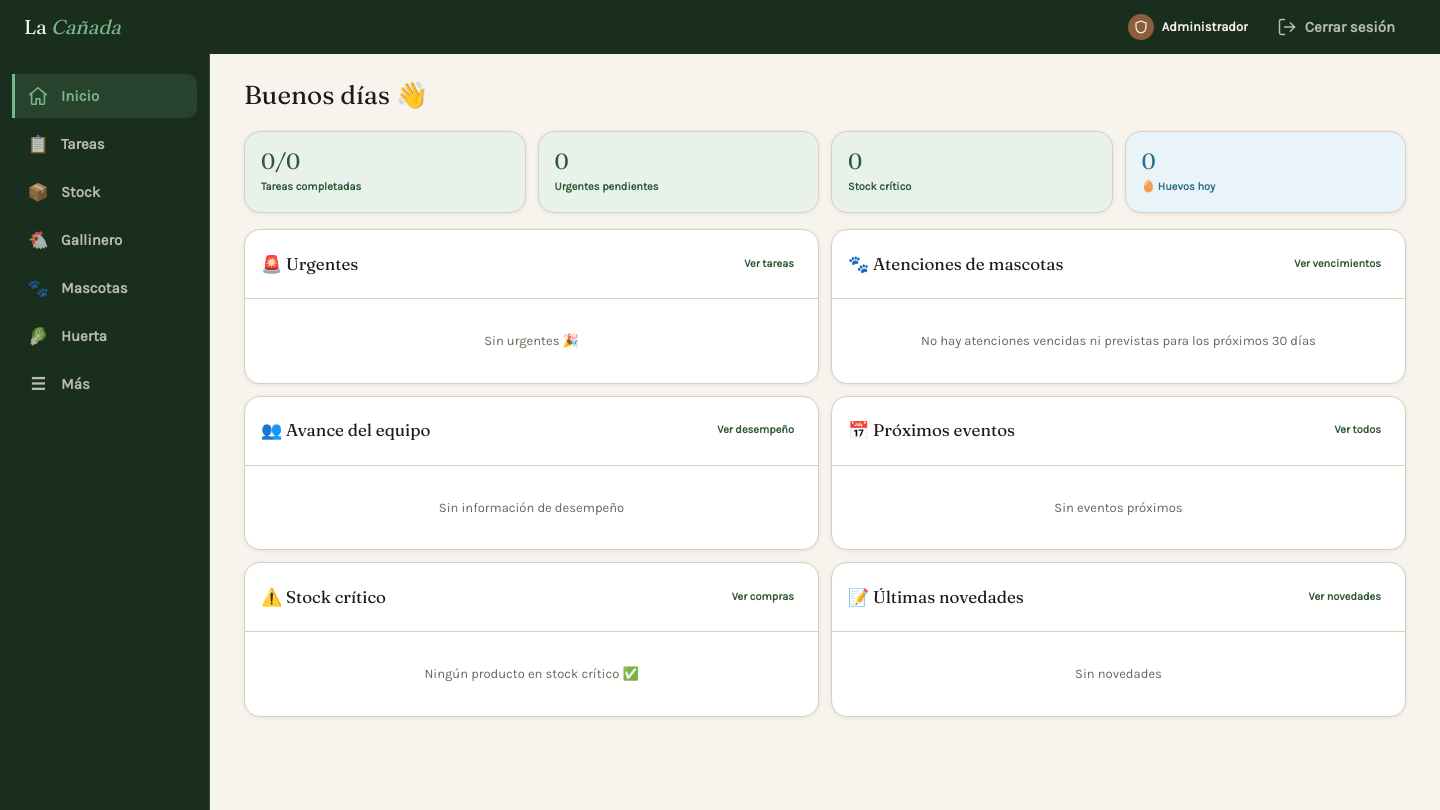
Test: navegación SPA — la sesión se restaura una sola vez por documento › Tareas ↔ Desempeño: sin re-bootstrap, sin refresh ni /me, shell montado
The image size is (1440, 810).
Expected: the heading "Buenos días 👋" is shown, [244,80,428,111]
What coordinates should you click on to do the following:
click the link "📋 Tareas"
I would click on:
 (66, 144)
Its box is [27,134,105,154].
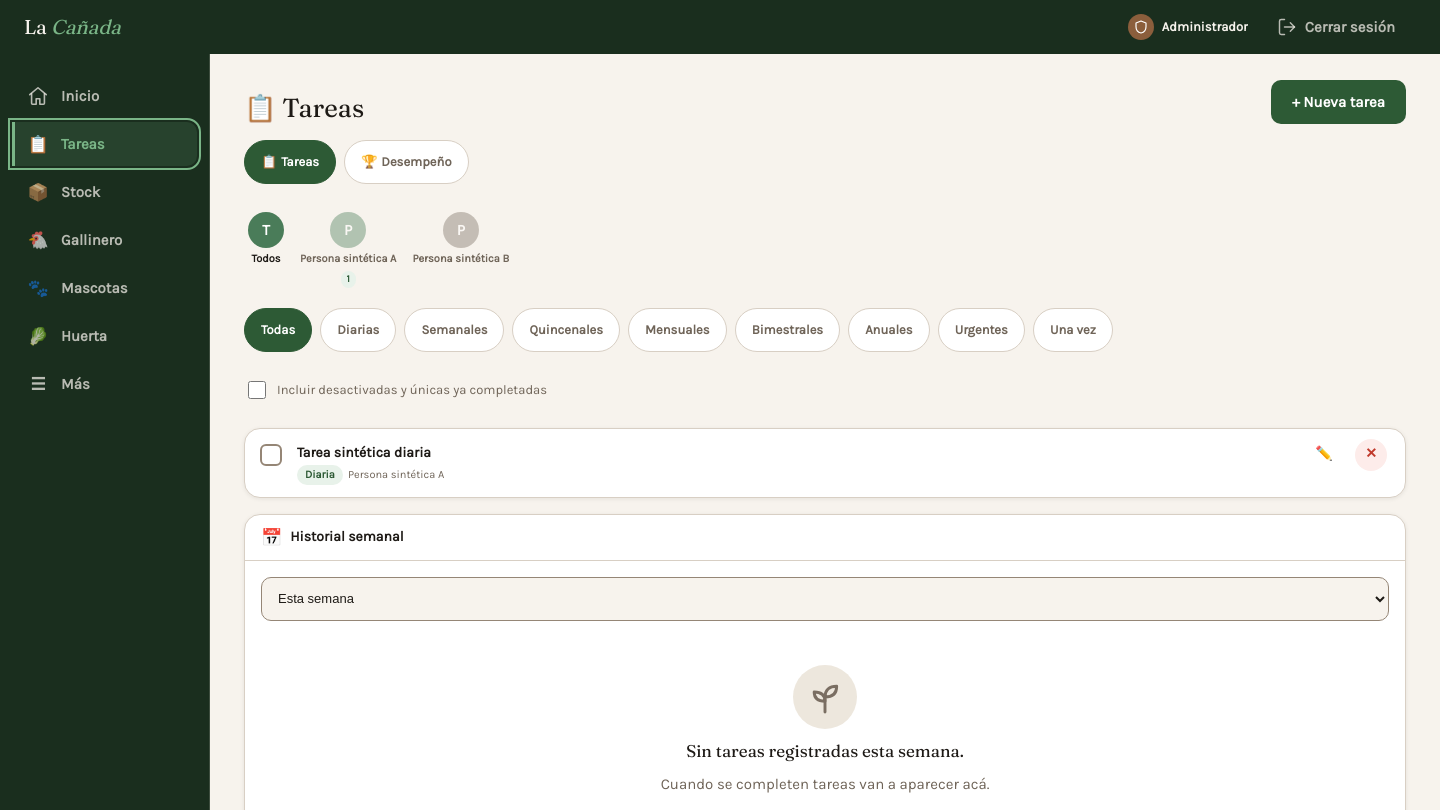
Expected: the list named "Tareas del período" is shown, [245,428,1405,497]
What coordinates should you click on to do the following:
click the link "🏆 Desempeño"
I would click on:
 (406, 162)
Its box is [344,140,468,184].
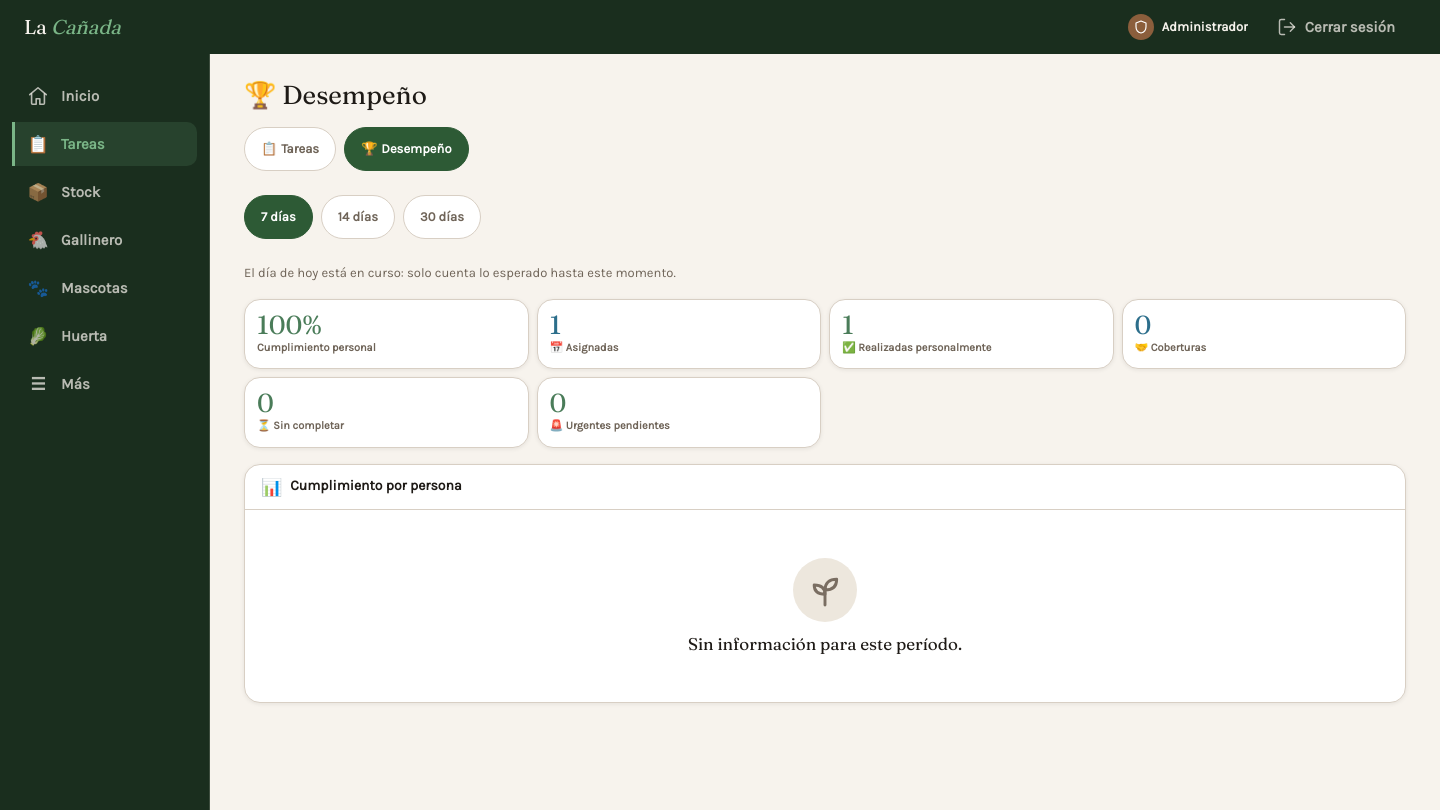
Expected: the heading "🏆 Desempeño" is shown, [244,80,427,111]
What coordinates should you click on to do the following:
click the 2nd link "📋 Tareas"
I would click on:
 (290, 149)
Its box is [244,127,336,171].
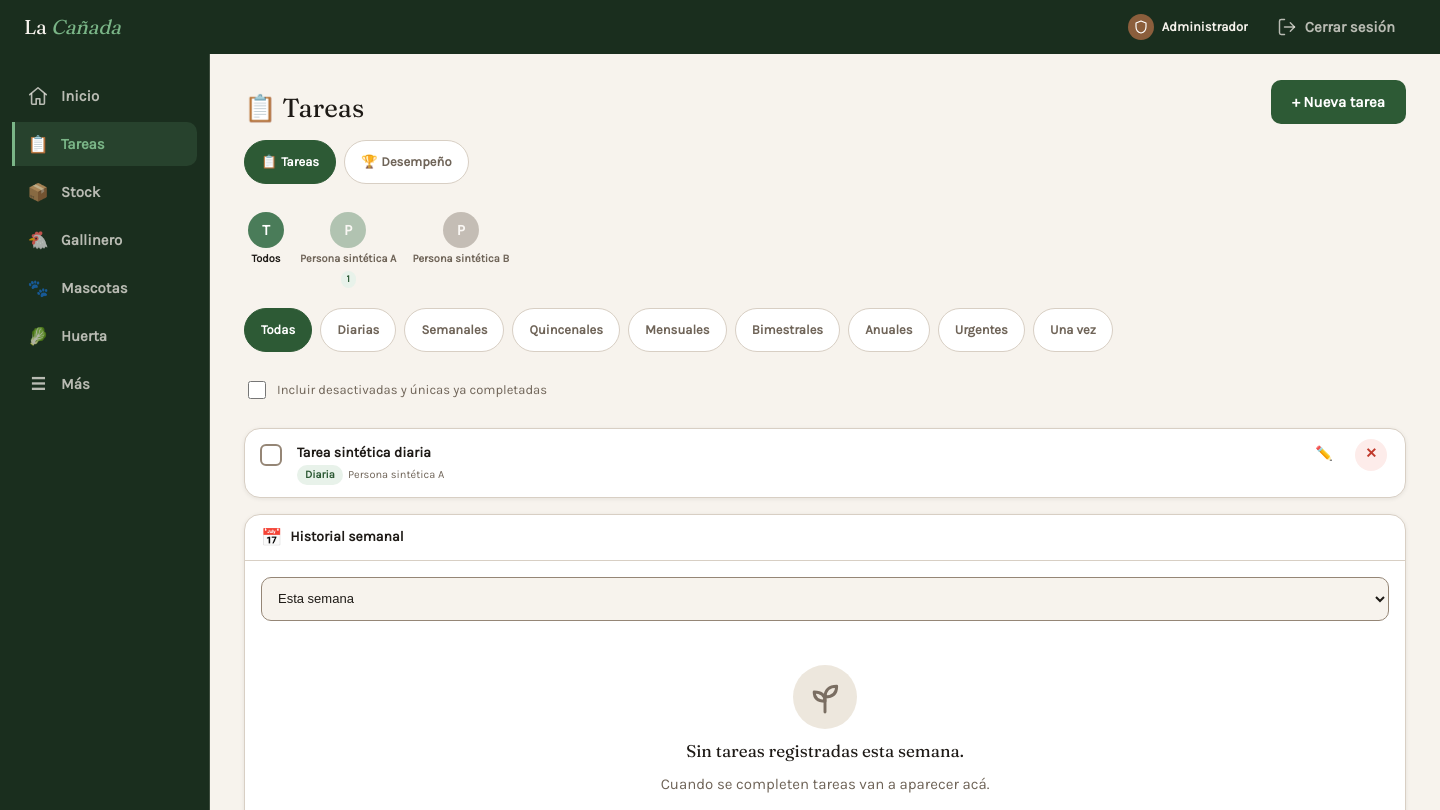
Expected: the heading "📋 Tareas" is shown, [244,93,364,124]
